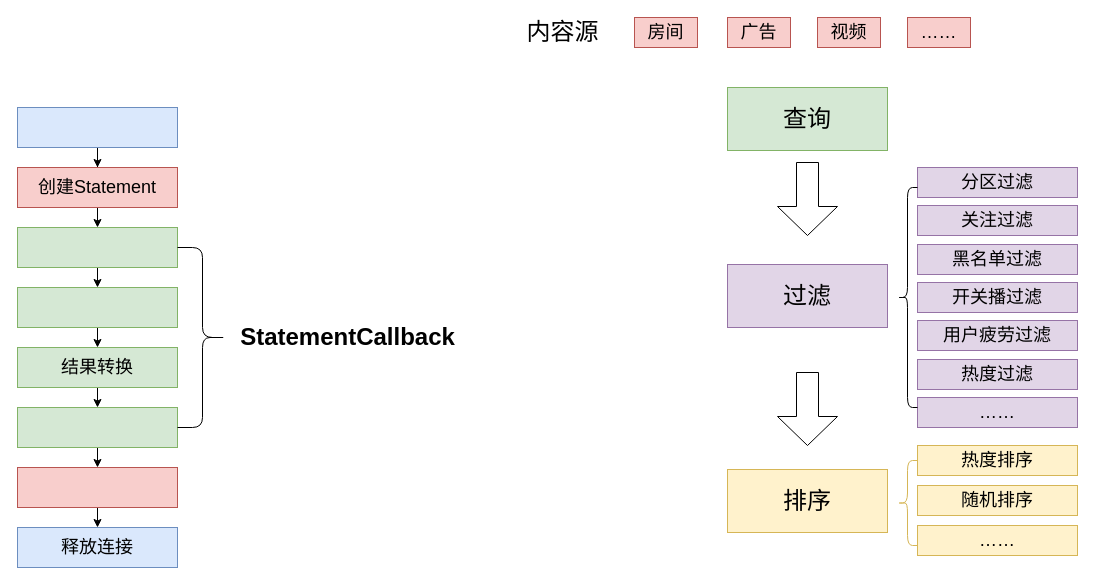
The diagram is 1095 pixels wide and 585 high, and some of its shapes have lost their labels. The shapes that lost their labels are listed below. From the top down, each one's centre as x and y in pixels, then its label:
(x=97, y=127): 建立连接
(x=97, y=247): 提交查询
(x=97, y=307): 获取结果
(x=97, y=427): 关闭结果
(x=97, y=487): 关闭Statement
